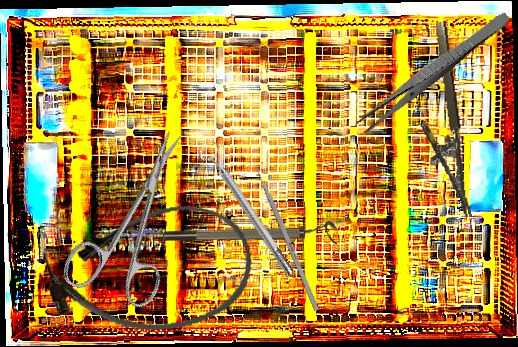Cannula: (37, 197, 261, 345)
Dressing Forceps: (354, 7, 513, 136)
Fixation Ring: (195, 138, 301, 282), (163, 221, 338, 244)
Iris Scissors: (57, 114, 222, 320)
Needle Holder: (409, 21, 472, 222)
Pusher: (248, 152, 320, 312)
